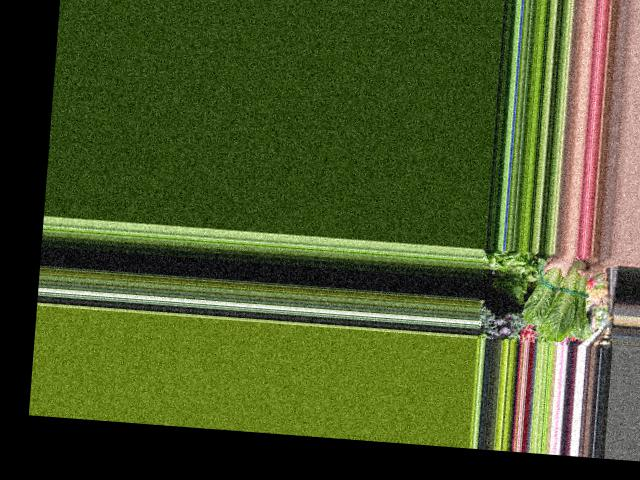lettuce: (519, 250, 593, 340)
